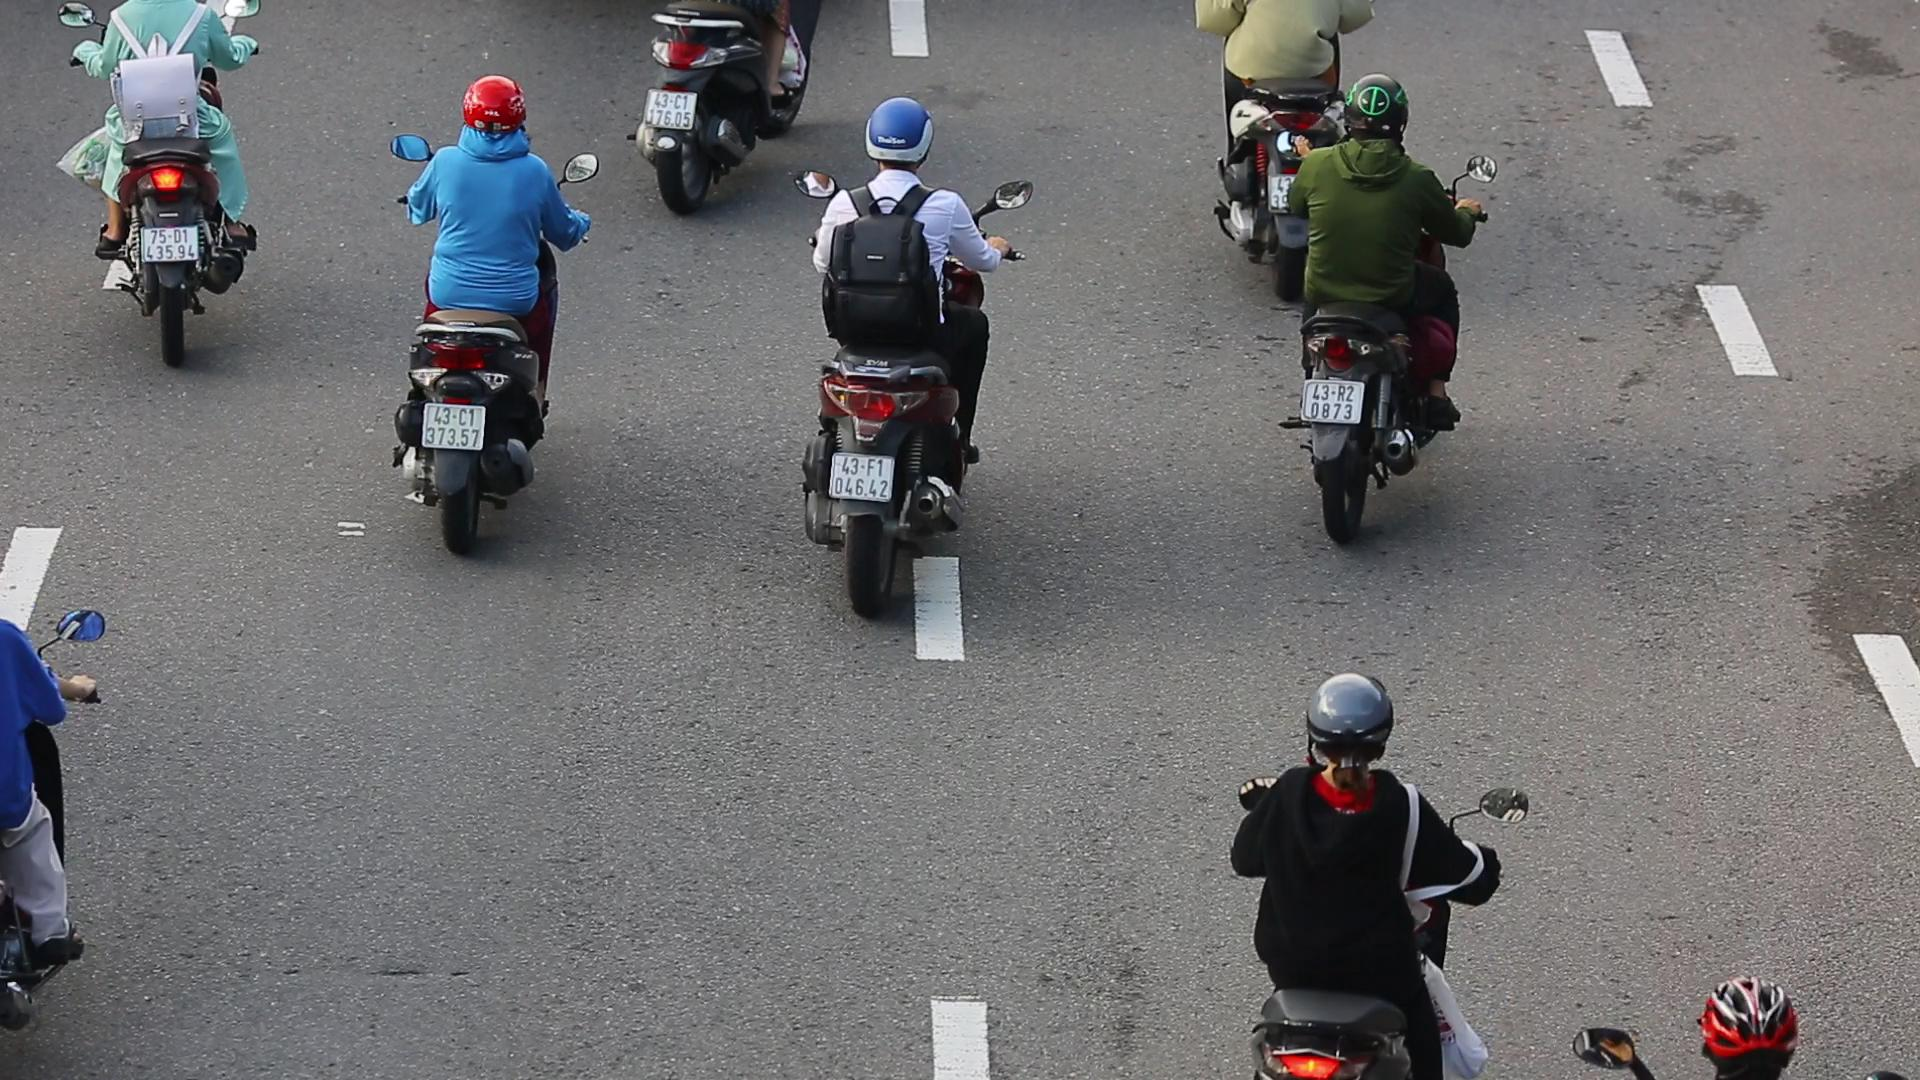motobike: (789, 84, 1038, 620), (378, 69, 611, 567), (1280, 69, 1510, 567)
